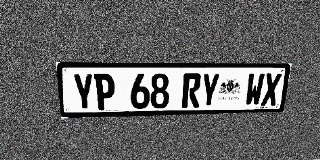6: (130, 73, 150, 109)
8: (150, 73, 170, 109)
P: (94, 73, 115, 110)
R: (182, 73, 202, 108)
W: (244, 73, 265, 106)
X: (261, 73, 282, 106)
Y: (72, 73, 95, 111), (200, 73, 220, 107)
